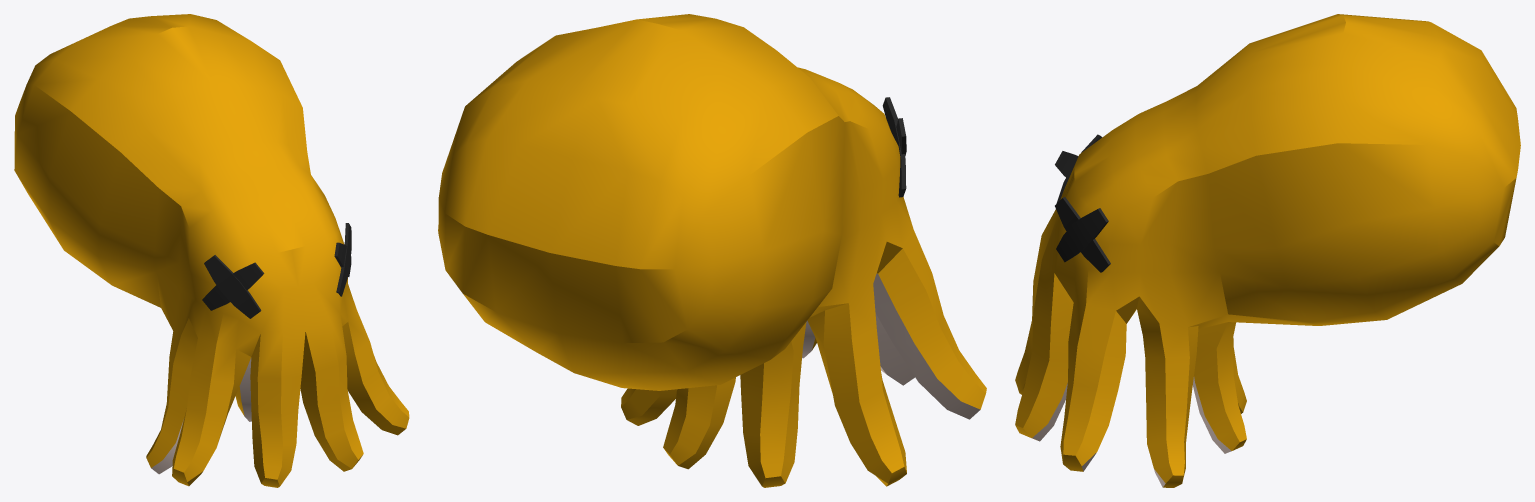
File: quaternius-sushi-restaurant-foodingredient-octopus.glb
The picture shows the model from 3 angles, left to right: view 1: azimuth 30°, elevation 25°; view 2: azimuth 150°, elevation 25°; view 3: azimuth 270°, elevation 25°; orthographic projection. The views are drawn at different scales.
Parts seen in each view (by area): view 1: FoodIngredient_Octopus; view 2: FoodIngredient_Octopus; view 3: FoodIngredient_Octopus.
Boxes of the visible parts, x1,y1,x2,y2 form: FoodIngredient_Octopus: (14, 14, 409, 487); FoodIngredient_Octopus: (438, 14, 986, 487); FoodIngredient_Octopus: (1015, 14, 1520, 487).
Bounding box in the file's own units: 1.06 × 1.54 × 1.7.
1 material, 1 textured.
